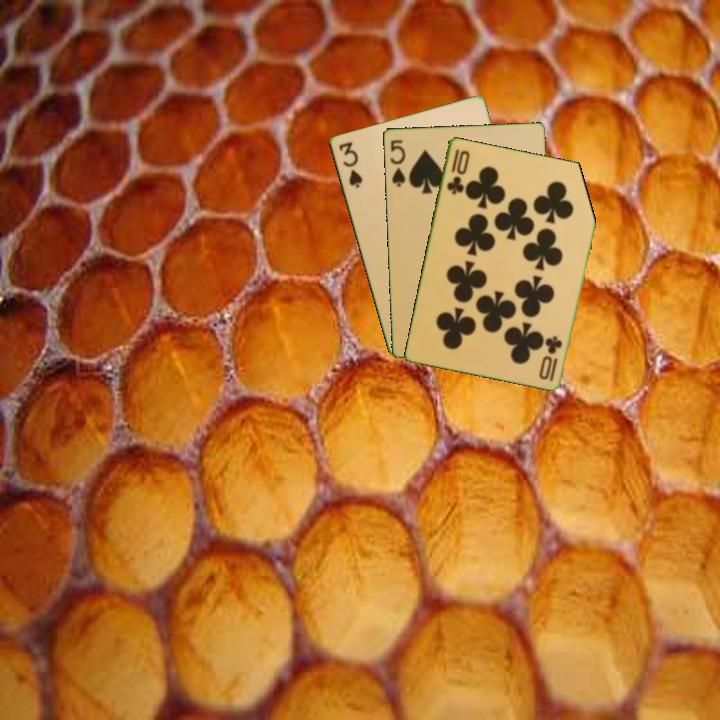10c: (443, 145, 472, 197), (544, 332, 565, 384)
3s: (335, 138, 365, 191)
5s: (386, 136, 408, 190)
